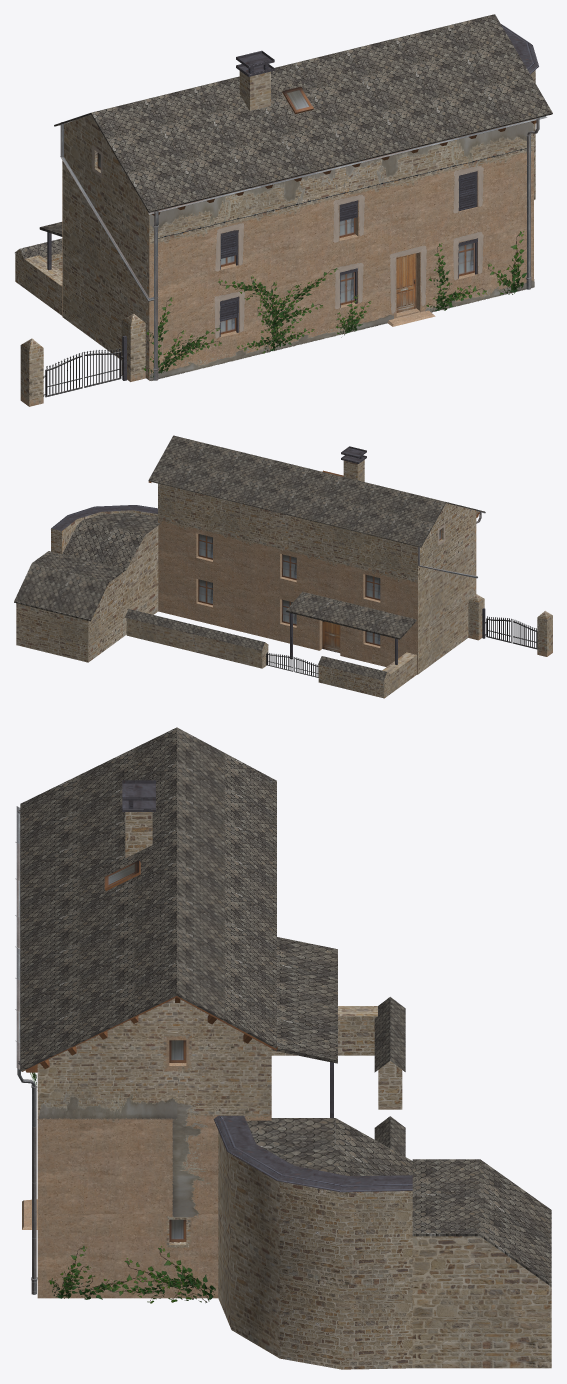
File: maison.glb
The picture shows the model from 3 angles, top to bottom: view 1: azimuth 30°, elevation 25°; view 2: azimuth 150°, elevation 25°; view 3: azimuth 270°, elevation 25°; orthographic projection. The views are drawn at different scales.
Visible parts, largest first — view 1: TheHouse; view 2: TheHouse; view 3: TheHouse.
Boxes of the visible parts, box(x1,y1,x2,y2) form: TheHouse: box(15, 14, 552, 406); TheHouse: box(14, 435, 552, 698); TheHouse: box(15, 727, 551, 1369).
Bounding box in the file's own units: 25.48 × 10.7 × 14.31.
2 materials, 2 textured.
